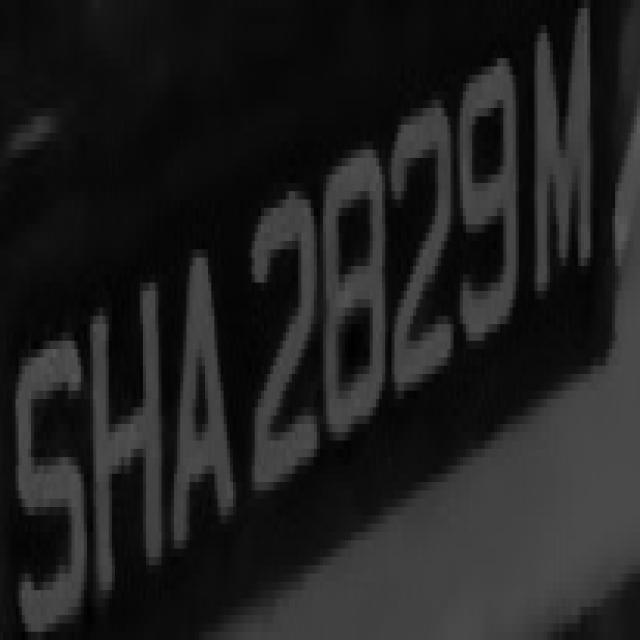2: (242, 174, 332, 532), (385, 100, 463, 440)
8: (311, 150, 385, 473)
9: (444, 59, 528, 382)
A: (165, 249, 239, 557)
H: (74, 274, 168, 590)
M: (531, 25, 609, 307)
S: (12, 308, 96, 632)
